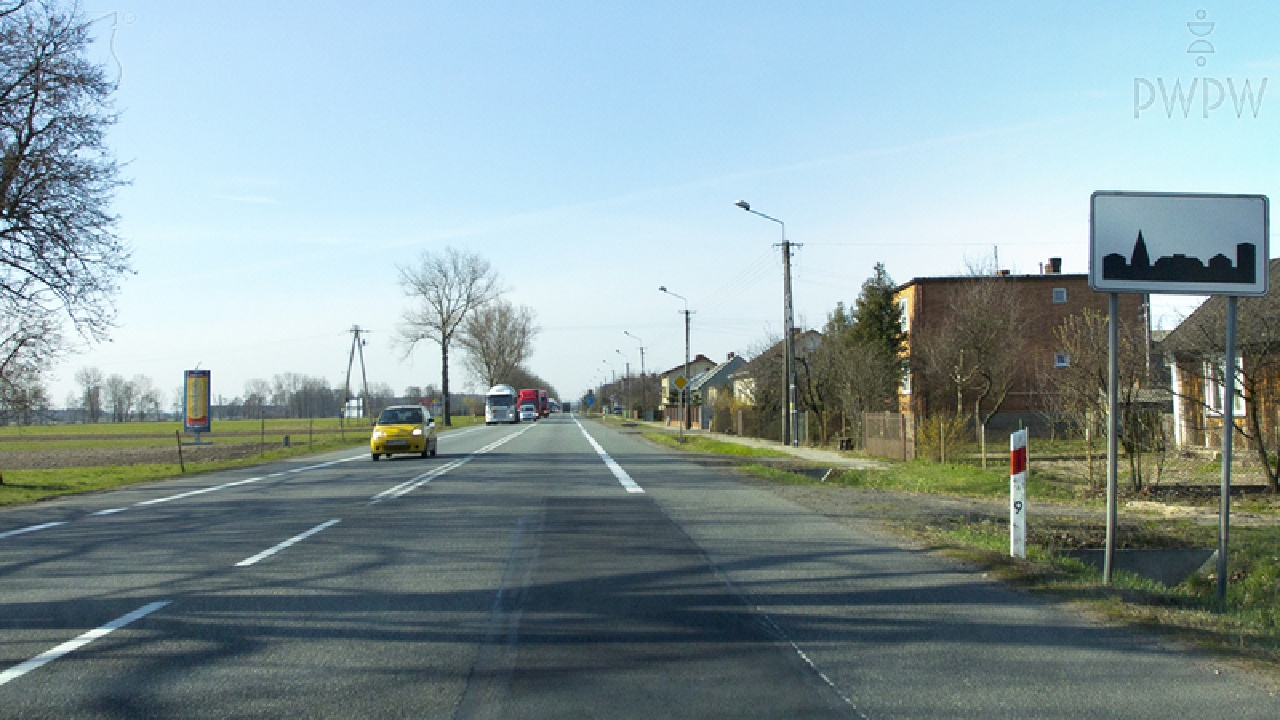D42: (1089, 189, 1271, 299)
